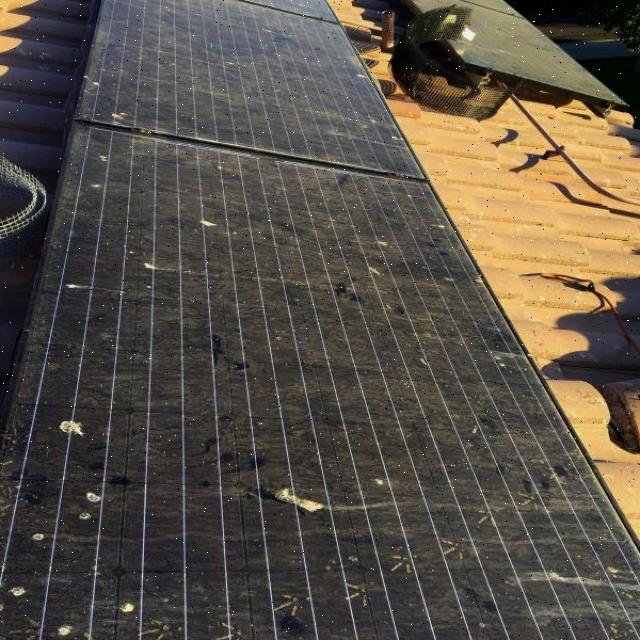Surface Contaminant: (0, 118, 640, 640), (74, 0, 427, 181)
